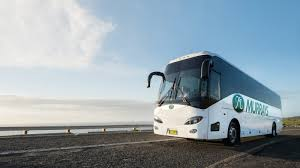bus: (146, 51, 284, 145)
